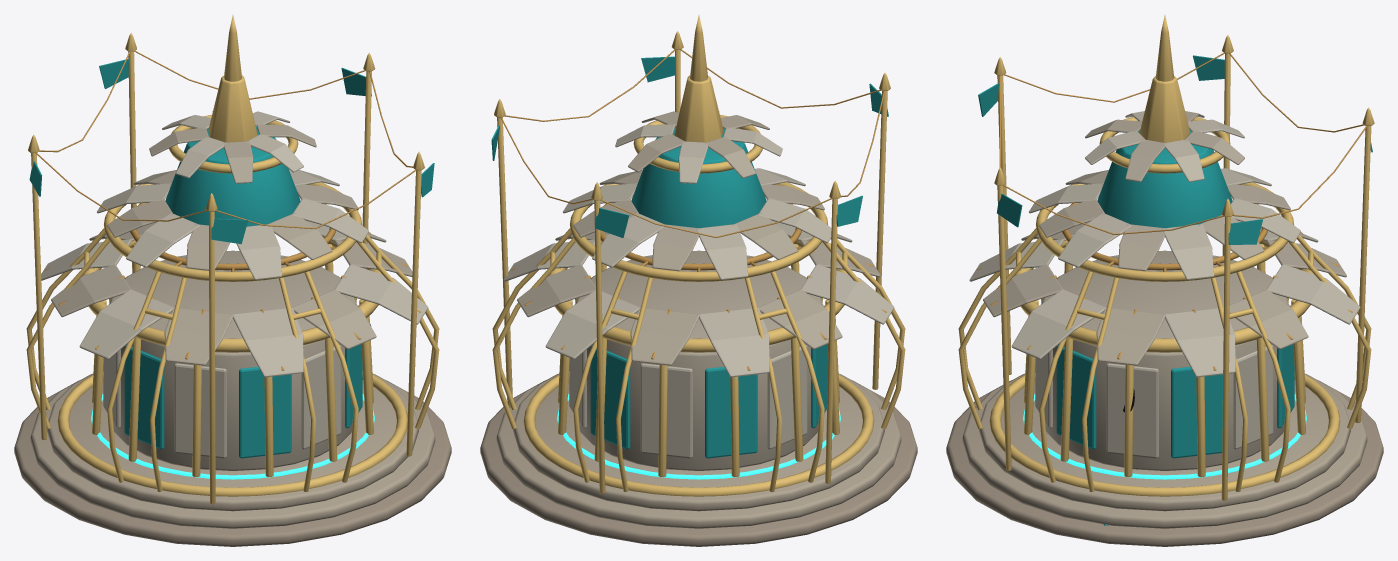
File: sunwoven_civilization_core.glb
The picture shows the model from 3 angles, left to right: view 1: azimuth 30°, elevation 25°; view 2: azimuth 150°, elevation 25°; view 3: azimuth 270°, elevation 25°; orthographic projection.
Parts seen in each view (by area): view 1: core_inner_drum, core_plinth_03, core_plinth_01, core_plinth_02, core_crown_drum, core_walkway_kerb, core_drum_panel_08, core_drum_panel_07, core_lower_petal_08, core_lower_petal_06, core_solar_wheel_outer, core_lower_petal_07 (+49 smaller); view 2: core_inner_drum, core_plinth_03, core_plinth_01, core_plinth_02, core_crown_drum, core_walkway_kerb, core_drum_panel_03, core_drum_panel_04, core_lower_petal_04, core_lower_petal_03, core_solar_wheel_outer, core_lower_petal_02 (+47 smaller); view 3: core_plinth_03, core_inner_drum, core_plinth_01, core_plinth_02, core_crown_drum, core_walkway_kerb, core_drum_panel_11, core_drum_panel_00, core_lower_petal_00, core_lower_petal_10, core_lower_petal_11, core_solar_wheel_outer (+51 smaller).
Part boxes in pixels (<box>): core_inner_drum: <box>110,250,356,470</box>; core_plinth_03: <box>47,373,418,511</box>; core_plinth_01: <box>14,380,451,546</box>; core_plinth_02: <box>30,374,435,528</box>; core_crown_drum: <box>165,127,300,226</box>; core_walkway_kerb: <box>57,371,407,496</box>; core_drum_panel_08: <box>239,367,291,458</box>; core_drum_panel_07: <box>174,363,226,458</box>; core_lower_petal_08: <box>232,307,303,377</box>; core_lower_petal_06: <box>79,289,173,359</box>; core_solar_wheel_outer: <box>104,182,361,281</box>; core_lower_petal_07: <box>164,307,232,365</box>; core_inner_drum: <box>576,250,822,470</box>; core_plinth_03: <box>513,373,884,511</box>; core_plinth_01: <box>480,380,917,546</box>; core_plinth_02: <box>496,374,901,528</box>; core_crown_drum: <box>631,127,766,228</box>; core_walkway_kerb: <box>523,371,874,496</box>; core_drum_panel_03: <box>640,363,692,458</box>; core_drum_panel_04: <box>705,367,757,458</box>; core_lower_petal_04: <box>698,307,769,377</box>; core_lower_petal_03: <box>630,307,698,365</box>; core_solar_wheel_outer: <box>570,182,827,281</box>; core_lower_petal_02: <box>545,290,639,359</box>; core_plinth_03: <box>979,373,1350,511</box>; core_inner_drum: <box>1042,250,1288,470</box>; core_plinth_01: <box>946,380,1383,546</box>; core_plinth_02: <box>962,374,1367,528</box>; core_crown_drum: <box>1097,130,1232,228</box>; core_walkway_kerb: <box>989,373,1340,496</box>; core_drum_panel_11: <box>1106,363,1158,458</box>; core_drum_panel_00: <box>1171,367,1222,458</box>; core_lower_petal_00: <box>1164,307,1235,377</box>; core_lower_petal_10: <box>1011,289,1105,359</box>; core_lower_petal_11: <box>1096,307,1164,365</box>; core_solar_wheel_outer: <box>1036,182,1293,281</box>.
Size of the model in its own units: 10.7 by 11.93 by 10.7.
